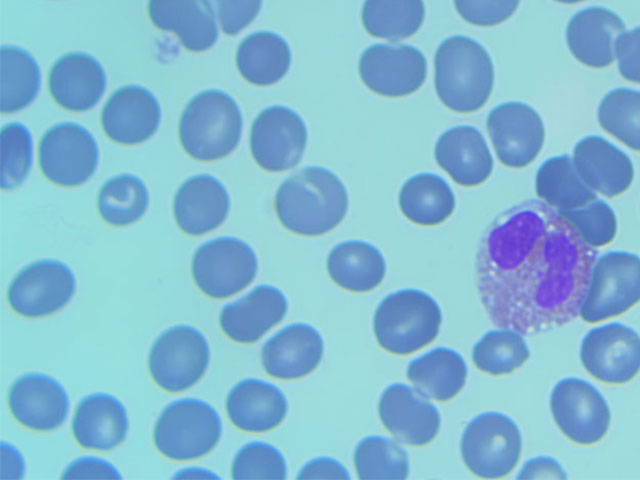Platelets: (144, 32, 182, 69)
RBC: (48, 47, 113, 114), (99, 80, 164, 147), (34, 122, 99, 189), (87, 169, 152, 236), (9, 252, 74, 319), (149, 326, 214, 393), (186, 232, 251, 299), (171, 174, 236, 241), (178, 91, 243, 158), (231, 26, 296, 93), (245, 102, 310, 169), (275, 165, 340, 232), (318, 234, 383, 301), (376, 280, 441, 347), (262, 318, 327, 385), (219, 282, 284, 349), (11, 368, 76, 435), (74, 384, 139, 451), (155, 392, 220, 459), (222, 374, 287, 441), (370, 384, 435, 451), (406, 344, 471, 411), (472, 323, 537, 390), (552, 373, 617, 440), (456, 411, 521, 478), (575, 320, 640, 387), (575, 251, 640, 318), (575, 136, 640, 203), (532, 146, 597, 213), (486, 105, 551, 172), (424, 123, 489, 190), (396, 175, 461, 242), (437, 37, 502, 104), (362, 44, 427, 111), (567, 6, 632, 73)
WBC: (468, 209, 591, 330)
